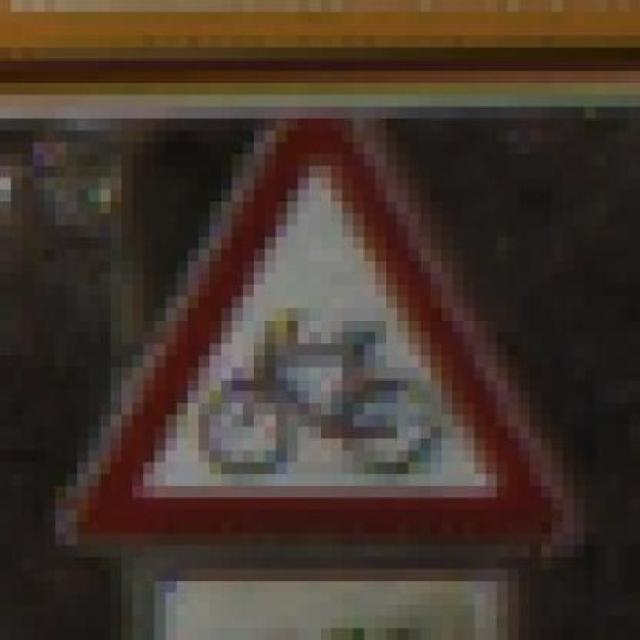CYCLE ROUTE AHEAD WARNING: (54, 106, 586, 569)
